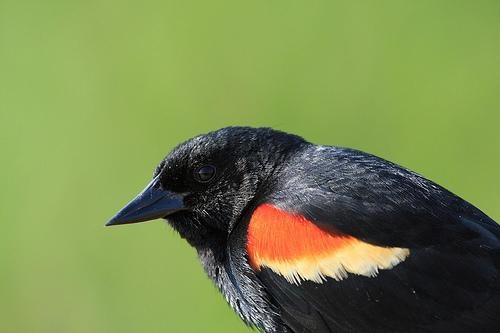bird: (104, 125, 500, 333)
